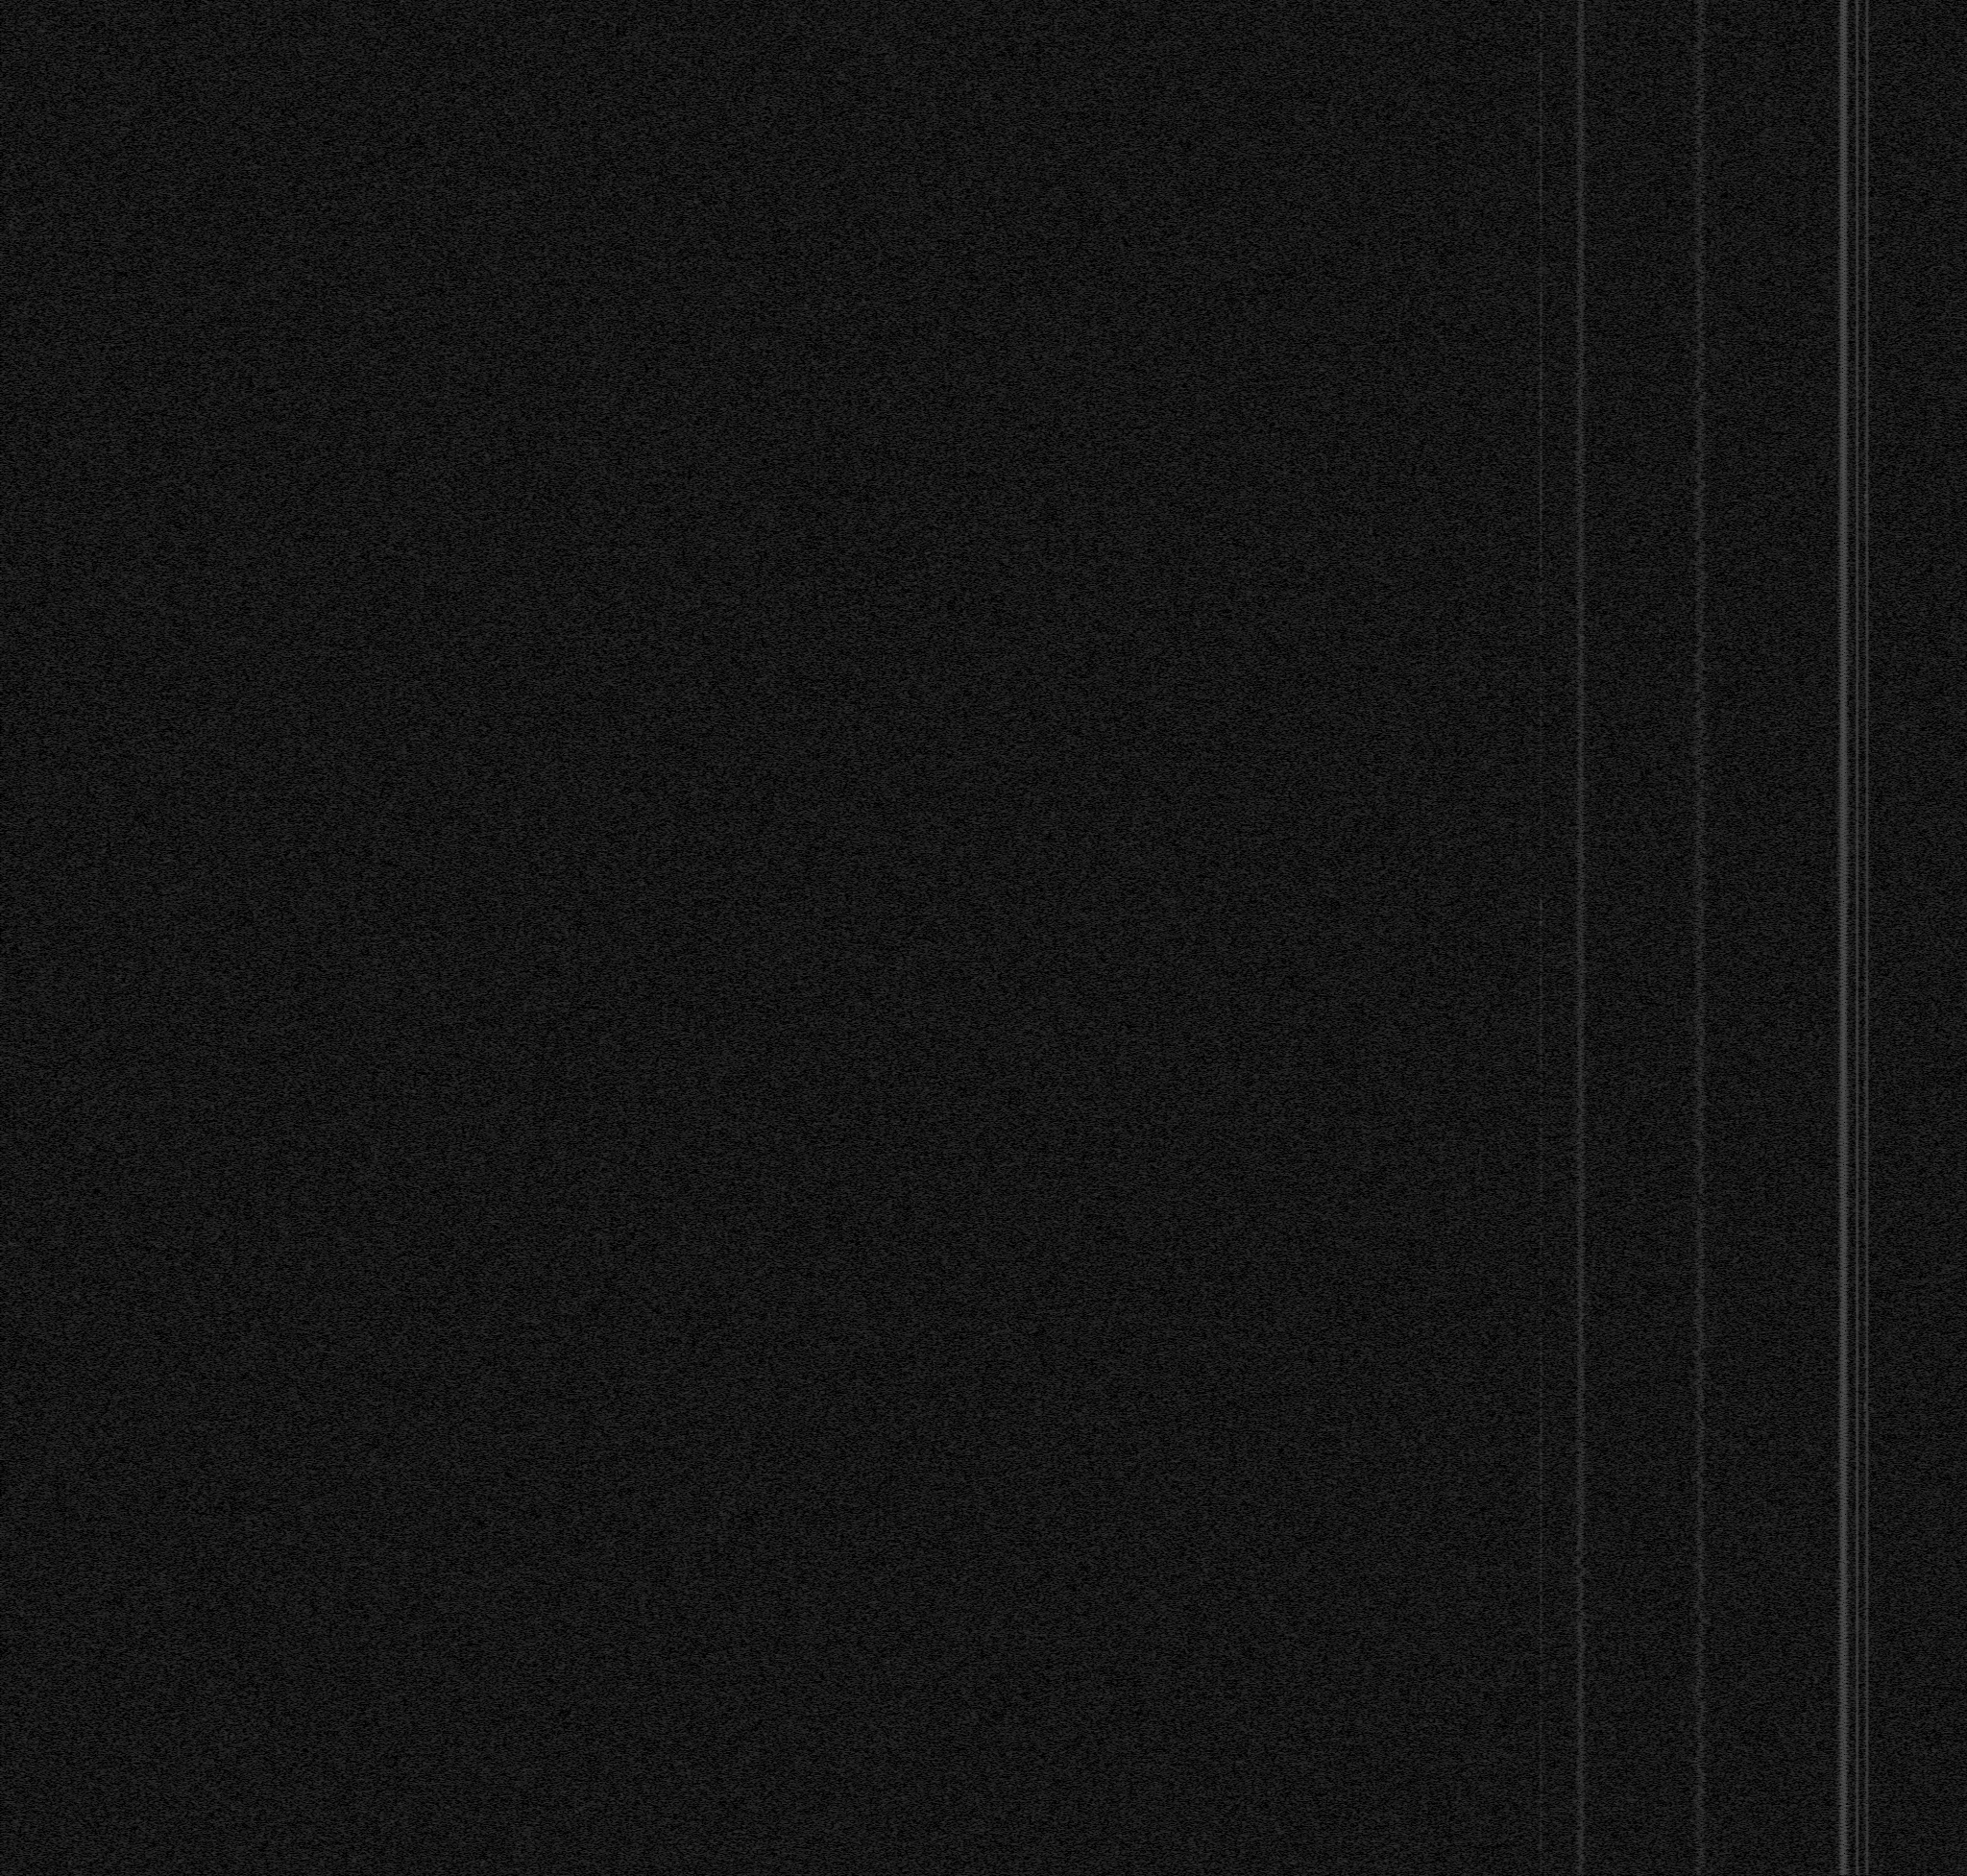wv_cw: (1863, 0, 1870, 1874), (1855, 0, 1860, 1874)
wv_usb: (1538, 1324, 1544, 1874), (1538, 242, 1544, 618), (1538, 11, 1544, 241), (1538, 889, 1544, 1014), (1538, 764, 1544, 889), (1863, 927, 1869, 1019), (1538, 1014, 1544, 1086), (1863, 559, 1867, 666), (1863, 1138, 1869, 1198), (1862, 1093, 1869, 1136), (1863, 1281, 1867, 1361), (1863, 1533, 1869, 1584), (1863, 1609, 1867, 1683), (1863, 1019, 1869, 1066), (1538, 1136, 1544, 1182), (1863, 1704, 1867, 1769), (1863, 97, 1867, 162), (1538, 720, 1544, 762), (1863, 508, 1869, 550), (1863, 1203, 1869, 1244), (1863, 288, 1867, 348), (1538, 620, 1544, 659), (1863, 169, 1867, 225), (1863, 1244, 1869, 1281), (1538, 683, 1544, 717), (1863, 1825, 1867, 1874), (1863, 355, 1867, 404), (1862, 485, 1869, 508), (1538, 1087, 1544, 1115), (1863, 1771, 1867, 1811), (1538, 1203, 1544, 1228), (1538, 1289, 1544, 1314), (1863, 1490, 1867, 1526), (1863, 1068, 1869, 1093), (1862, 1400, 1869, 1418), (1863, 1425, 1867, 1458), (1538, 1182, 1544, 1203), (1538, 660, 1544, 682), (1863, 404, 1867, 436), (1863, 457, 1867, 485), (1863, 248, 1867, 274), (1863, 792, 1867, 817), (1538, 1117, 1544, 1133), (1538, 1242, 1544, 1258), (1863, 1370, 1867, 1393), (1863, 826, 1867, 848), (1538, 1228, 1544, 1242), (1863, 436, 1867, 457), (1863, 76, 1867, 97), (1863, 738, 1867, 757), (1863, 1685, 1867, 1702), (1863, 764, 1867, 782), (1863, 35, 1867, 53), (1863, 1472, 1867, 1488), (1863, 60, 1867, 76), (1863, 891, 1867, 905), (1863, 875, 1867, 889), (1863, 1811, 1867, 1823), (1863, 850, 1867, 862), (1863, 274, 1867, 286), (1863, 1591, 1867, 1602), (1863, 673, 1867, 683), (1863, 1361, 1867, 1370), (1538, 1281, 1542, 1288), (1863, 920, 1867, 927), (1863, 817, 1867, 824), (1863, 722, 1867, 729), (1863, 713, 1867, 720), (1863, 699, 1867, 706), (1863, 552, 1867, 559), (1863, 239, 1867, 246), (1863, 232, 1867, 239), (1863, 19, 1867, 26), (1863, 1584, 1867, 1590), (1863, 1526, 1867, 1532), (1863, 1465, 1867, 1470), (1863, 1418, 1867, 1423), (1863, 1395, 1867, 1400), (1863, 731, 1867, 736), (1863, 706, 1867, 711), (1863, 683, 1867, 689), (1863, 667, 1867, 673), (1863, 28, 1867, 33), (1540, 1317, 1542, 1324), (1538, 1314, 1542, 1317), (1863, 1604, 1867, 1607), (1863, 1460, 1867, 1463), (1863, 866, 1867, 869), (1540, 1268, 1542, 1275), (1538, 1263, 1542, 1266), (1863, 696, 1867, 699), (1863, 690, 1867, 694), (1863, 227, 1867, 230), (1863, 163, 1867, 167), (1540, 1277, 1542, 1281), (1863, 917, 1867, 919), (1540, 1258, 1542, 1261), (1863, 54, 1867, 56)
wv_wbfm: (1690, 0, 1711, 1874), (1570, 0, 1591, 1874), (1835, 0, 1853, 1874)
